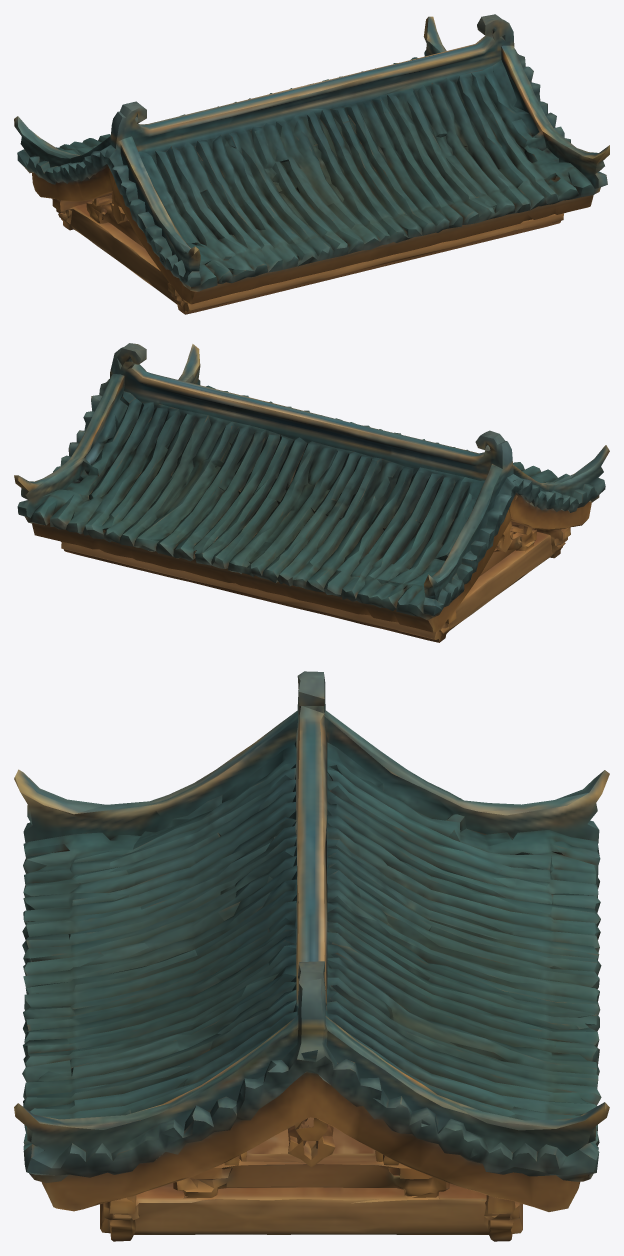
File: gate-roof-aholo-8295884.glb
3 views of the same model, one above another, from view 1: azimuth 30°, elevation 25°; view 2: azimuth 150°, elevation 25°; view 3: azimuth 270°, elevation 25° (orthographic). The views are drawn at different scales.
Parts seen in each view (by area): view 1: Architecture_Aholo_8295884; view 2: Architecture_Aholo_8295884; view 3: Architecture_Aholo_8295884.
Part boxes in pixels (x1,y1,x2,y2): Architecture_Aholo_8295884: (14,14,609,314); Architecture_Aholo_8295884: (14,343,609,642); Architecture_Aholo_8295884: (14,671,609,1241).
Size of the model in its own units: 0.8047 by 0.3 by 0.6.
1 material, 1 textured.
